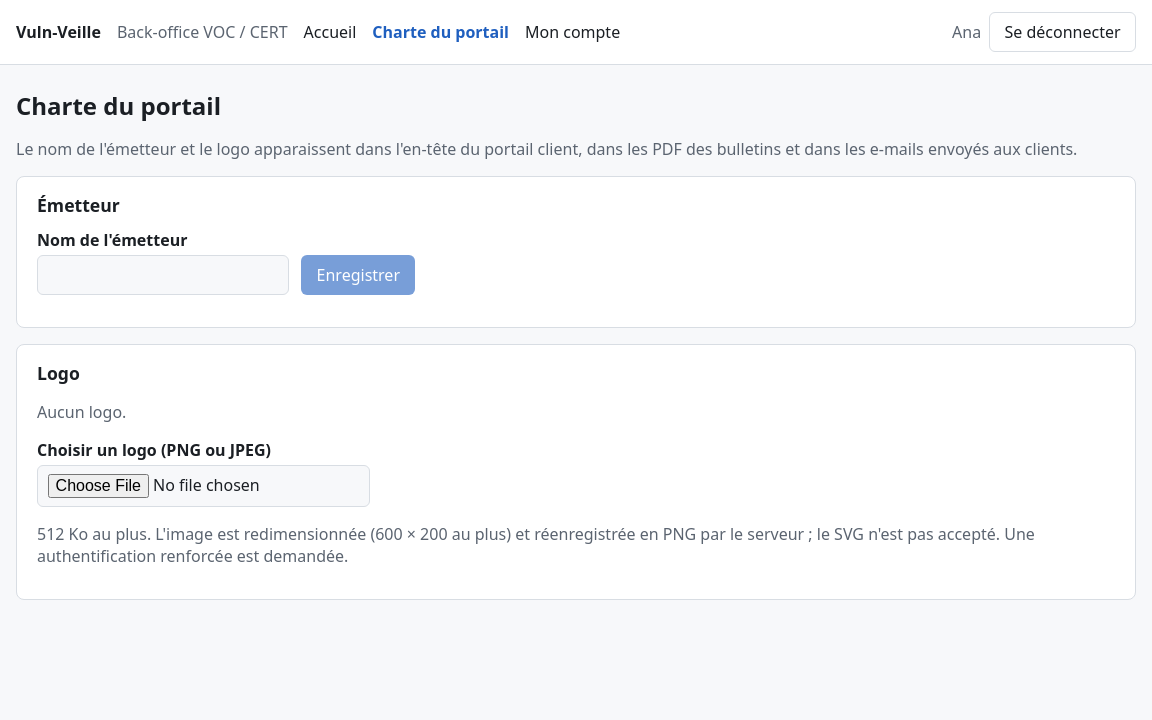
Test: platform branding › lets a platform administrator name the issuer
Expected: the text "Aucun logo." is shown, [37,401,126,423]
Type "CERT Exemple" into the field labelled "Nom de l'émetteur" at (163, 275), box [37,255,289,295]
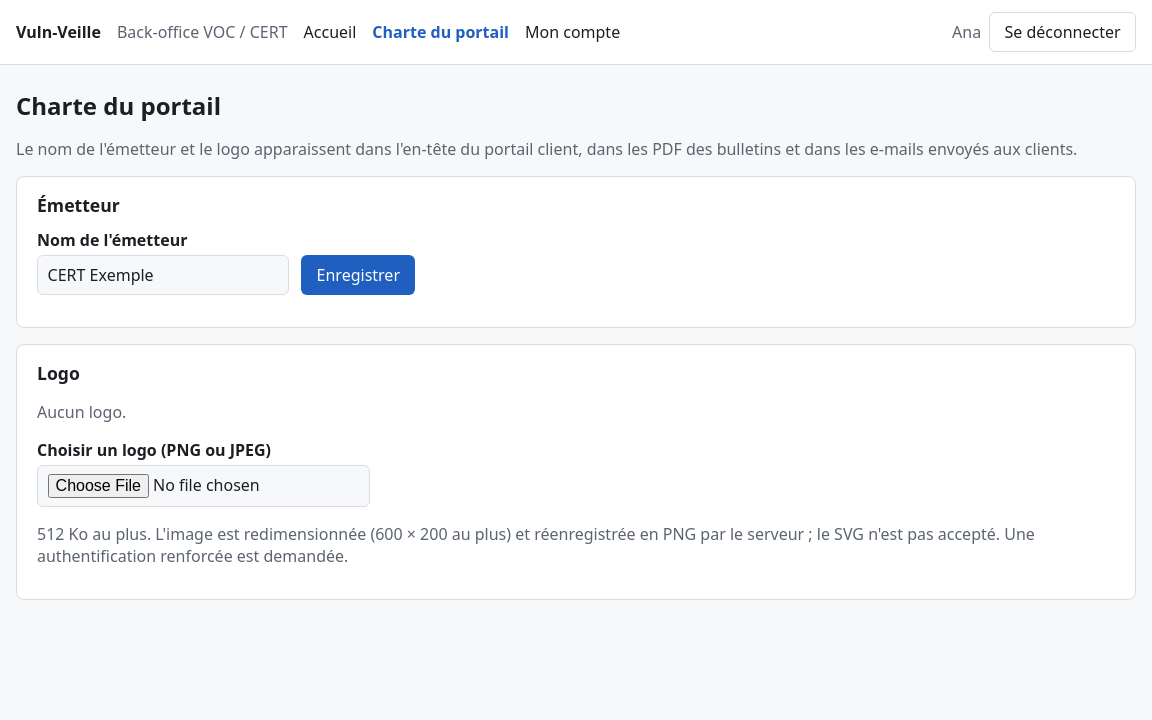
Click the button "Enregistrer" at (358, 275), box [301,255,415,295]
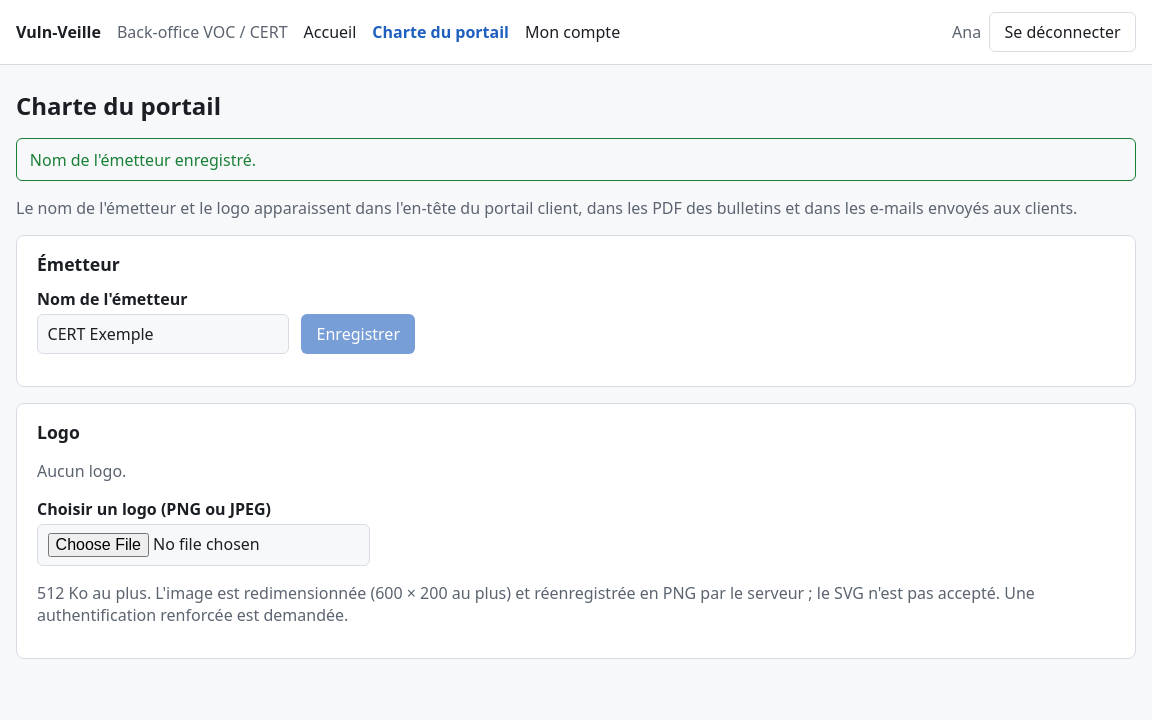
Result: the text "Nom de l'émetteur enregistré." is shown at [16,138,1136,181]
